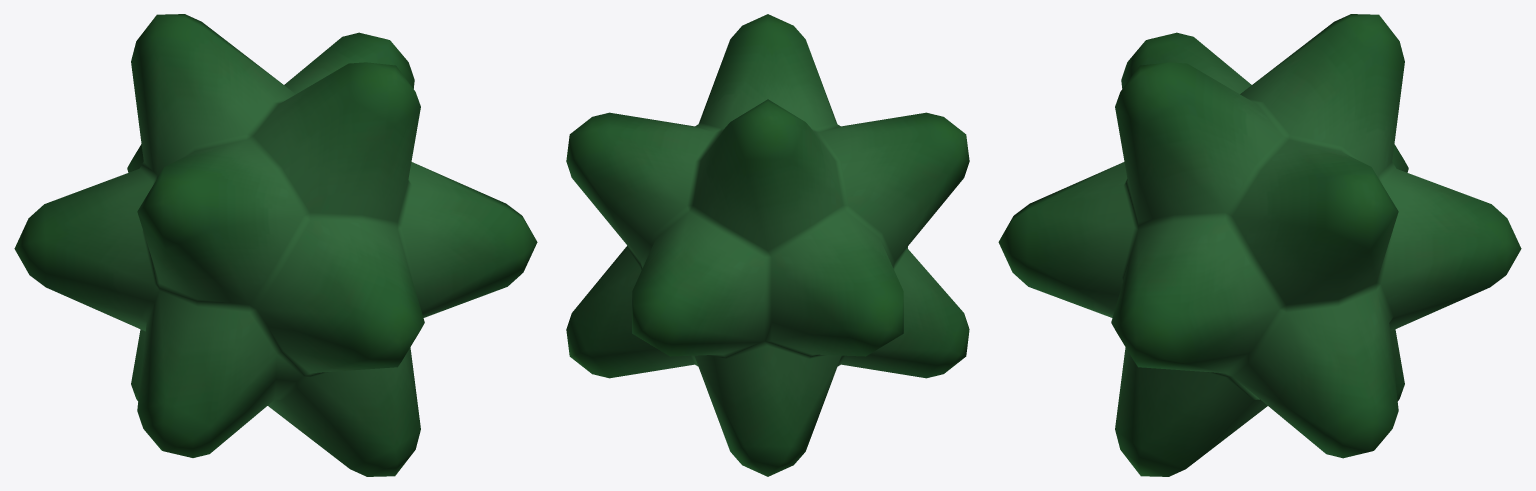
File: taurus-fragment.glb
3 views of the same model, side by side, from view 1: azimuth 30°, elevation 25°; view 2: azimuth 150°, elevation 25°; view 3: azimuth 270°, elevation 25° (orthographic). The views are drawn at different scales.
Bounding box in the file's own units: 3.1 × 3.05 × 3.52.
Materials: 1 (1 with a texture image).
